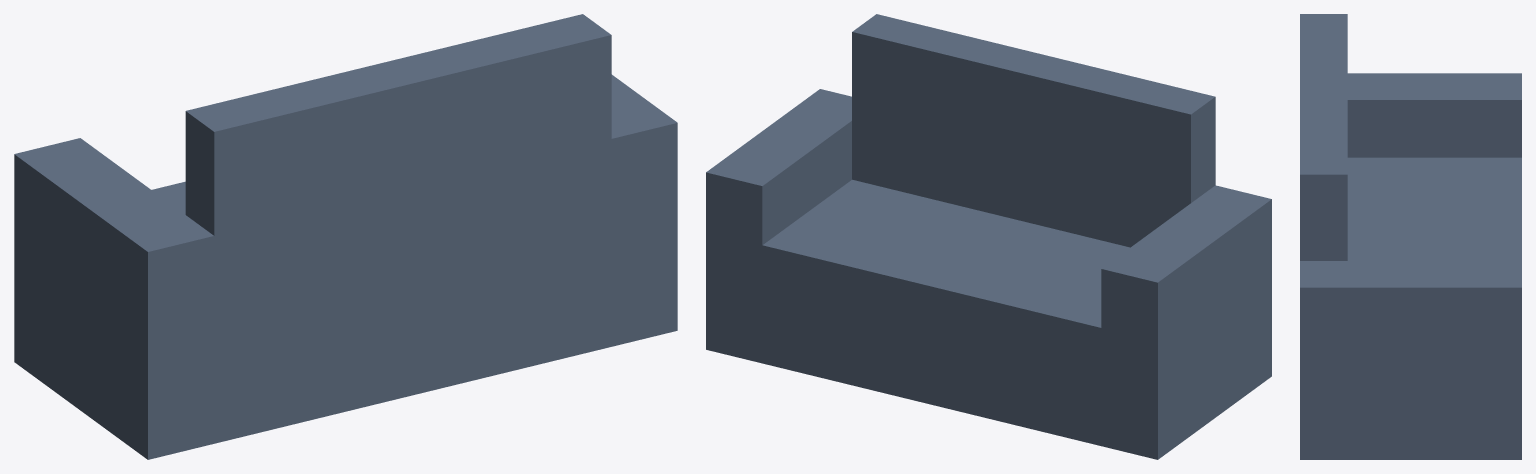
Rendered from couch.gltf.
3 views of the same model, side by side, from view 1: azimuth 30°, elevation 25°; view 2: azimuth 150°, elevation 25°; view 3: azimuth 270°, elevation 25° (orthographic). The views are drawn at different scales.
Parts seen in each view (by area): view 1: mesh (×3); view 2: mesh (×4); view 3: mesh (×4).
Part boxes in pixels (box(x1,y1,x2,y2)): mesh (×3): box(14, 14, 677, 459); mesh (×4): box(706, 14, 1271, 459); mesh (×4): box(1300, 14, 1521, 459).
Bounding box in the file's own units: 4 × 2.25 × 1.75.
Materials: 1 (1 with a texture image).
